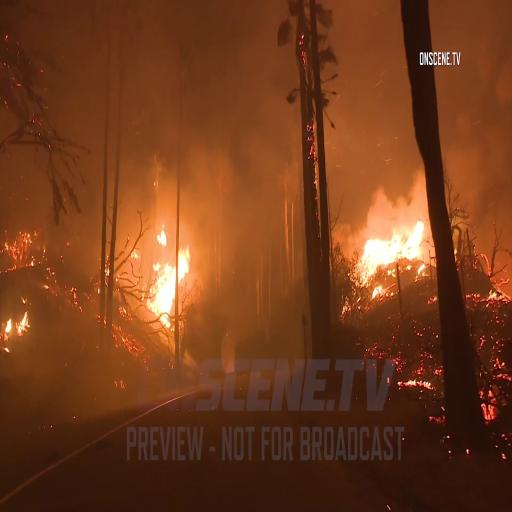fire: (136, 230, 197, 316), (354, 208, 420, 266)
